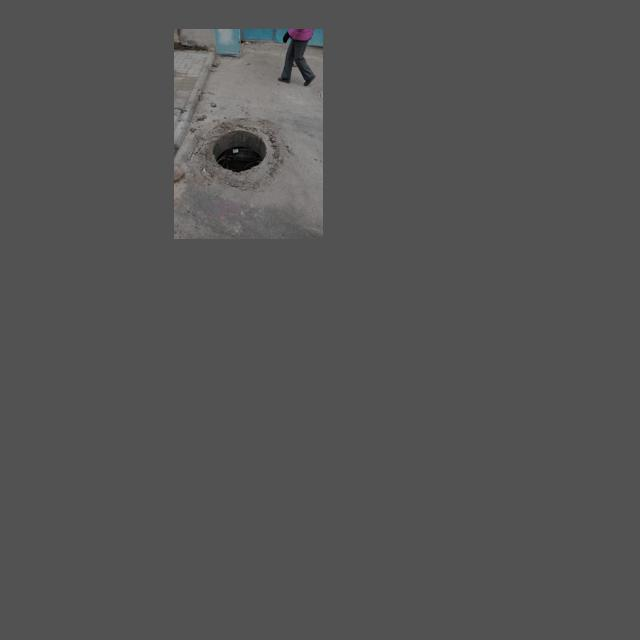lose: (212, 129, 267, 172)
